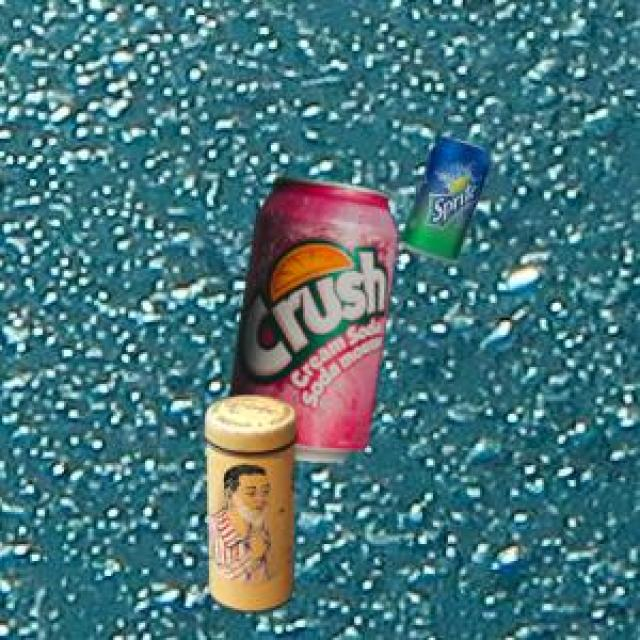logam: (227, 174, 396, 460), (199, 391, 295, 609), (398, 133, 485, 259)
